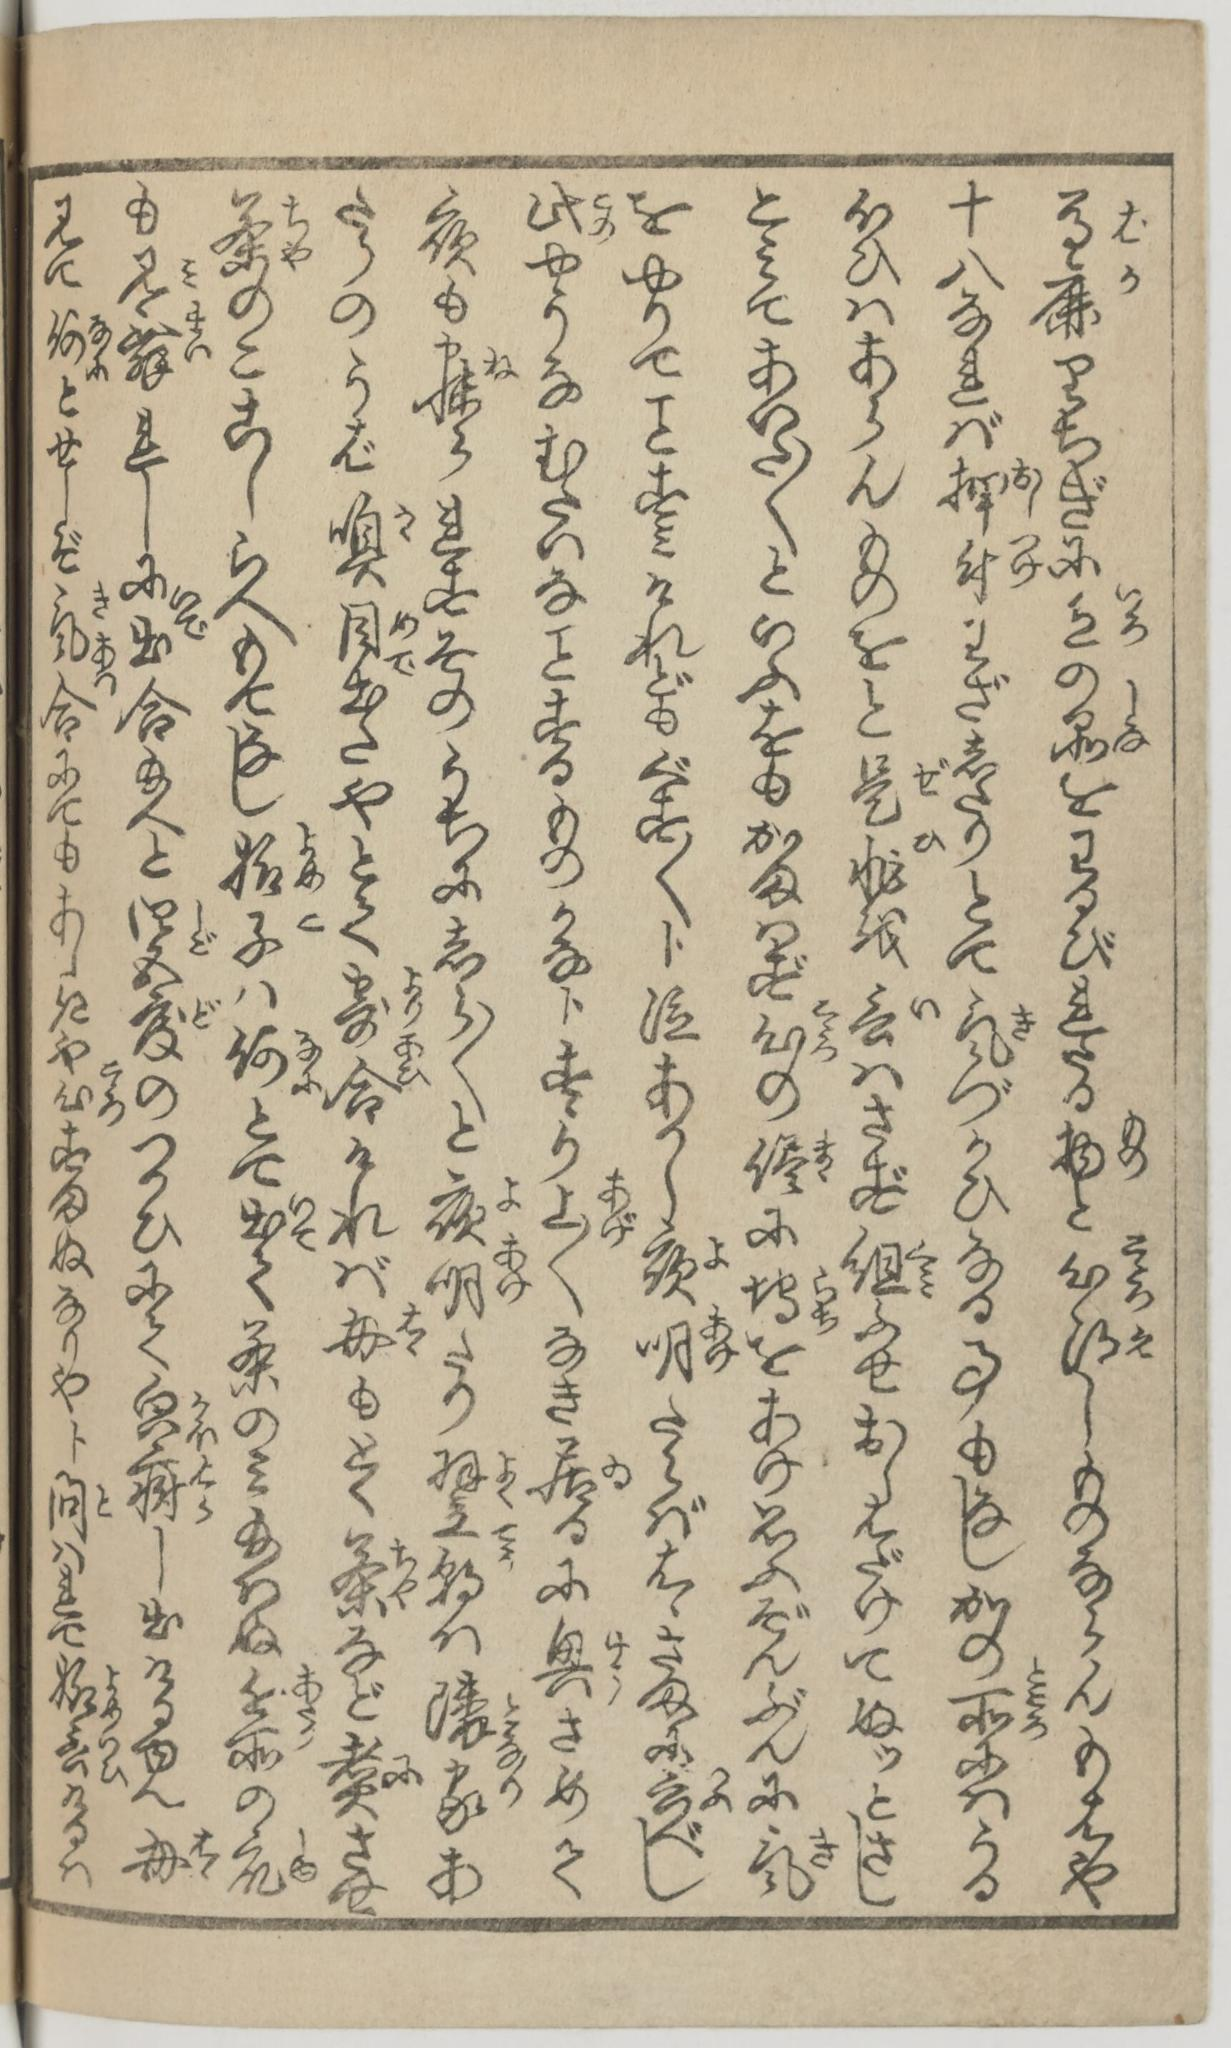MainZone-Character: (228, 1668, 325, 1774), (629, 1296, 738, 1388), (427, 1236, 537, 1328), (320, 1037, 431, 1128), (215, 822, 335, 906), (1038, 257, 1156, 341), (411, 336, 519, 427), (947, 1659, 1058, 1747), (215, 187, 317, 282), (421, 1523, 526, 1614), (1038, 1110, 1168, 1183), (417, 1675, 531, 1758), (38, 635, 120, 749), (1056, 1233, 1165, 1317), (322, 1287, 431, 1371), (216, 1023, 327, 1103), (323, 1527, 415, 1624), (326, 960, 431, 1043), (322, 1729, 423, 1814), (839, 1224, 943, 1306), (427, 1454, 523, 1542), (1044, 181, 1154, 257), (531, 1169, 636, 1248), (1050, 685, 1151, 767), (123, 1454, 225, 1535), (526, 1432, 635, 1508), (425, 1162, 526, 1241), (737, 1131, 848, 1202), (538, 1616, 624, 1709), (434, 1757, 534, 1836), (330, 497, 420, 585), (115, 306, 208, 391), (947, 527, 1042, 609), (1047, 588, 1155, 660), (746, 1821, 842, 1900), (743, 1260, 841, 1337), (846, 832, 946, 908), (851, 753, 952, 827), (124, 998, 222, 1072), (947, 989, 1039, 1068), (1050, 1312, 1164, 1375), (124, 886, 222, 960), (639, 1757, 740, 1827), (743, 996, 842, 1063), (130, 1381, 218, 1457), (230, 1829, 320, 1902), (637, 1220, 730, 1292), (227, 1197, 322, 1265), (327, 652, 424, 720), (851, 980, 943, 1050), (44, 1660, 136, 1729), (118, 246, 208, 315), (32, 1473, 117, 1545), (942, 461, 1042, 521), (47, 584, 118, 667), (523, 183, 623, 243), (42, 300, 111, 386), (53, 1061, 126, 1131), (50, 1731, 133, 1792), (130, 1827, 219, 1884), (332, 595, 415, 648)
MainZone-Ruby: (594, 1173, 636, 1249), (292, 1666, 326, 1753), (281, 1024, 319, 1099), (276, 192, 310, 272), (1026, 1659, 1058, 1742), (399, 963, 436, 1033), (803, 1270, 839, 1339), (1123, 1236, 1158, 1306), (82, 313, 114, 389), (1114, 1113, 1152, 1176), (699, 1302, 734, 1368), (1110, 190, 1148, 250), (183, 1457, 216, 1524), (96, 1662, 130, 1728), (1117, 685, 1146, 759), (181, 300, 212, 370), (385, 1539, 412, 1615), (1114, 591, 1151, 648), (292, 824, 325, 888), (287, 1194, 319, 1258), (189, 892, 216, 965), (494, 1694, 523, 1763), (496, 1236, 523, 1308), (95, 1062, 126, 1125), (1007, 530, 1041, 587), (181, 1391, 216, 1445), (808, 1004, 841, 1062), (906, 1235, 936, 1298), (1009, 462, 1045, 512), (604, 1630, 629, 1703), (592, 1445, 633, 1489), (379, 1748, 420, 1792), (94, 1735, 127, 1788), (287, 1834, 322, 1884), (911, 759, 952, 802), (393, 1044, 430, 1091), (588, 184, 618, 238), (91, 632, 115, 698), (387, 597, 421, 644), (703, 1760, 734, 1811), (1006, 996, 1038, 1044), (497, 1162, 525, 1216), (493, 1454, 519, 1510), (807, 1821, 838, 1868), (390, 497, 421, 543), (490, 1517, 516, 1570), (396, 1299, 424, 1349), (186, 1830, 213, 1877), (912, 829, 953, 860), (911, 990, 943, 1028), (170, 255, 205, 287), (82, 584, 111, 622), (1124, 1322, 1155, 1358), (187, 998, 222, 1028), (484, 344, 512, 382), (1116, 263, 1149, 294), (92, 1477, 114, 1524), (814, 1132, 835, 1182), (497, 1767, 520, 1805), (705, 1230, 728, 1265), (387, 652, 415, 682)
